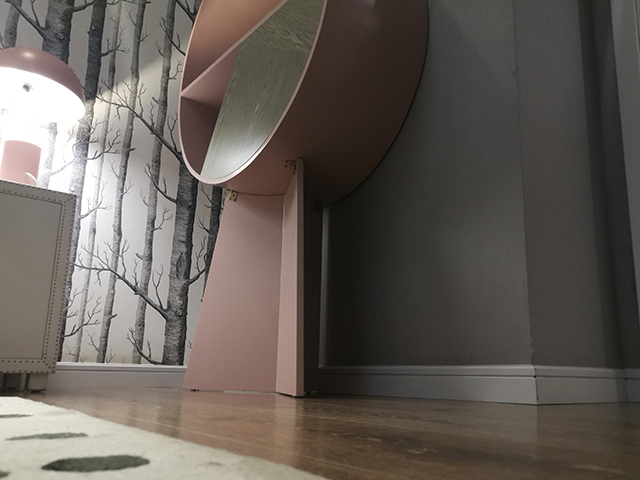cabinet: (1, 179, 79, 393)
carpet: (1, 395, 327, 480)
